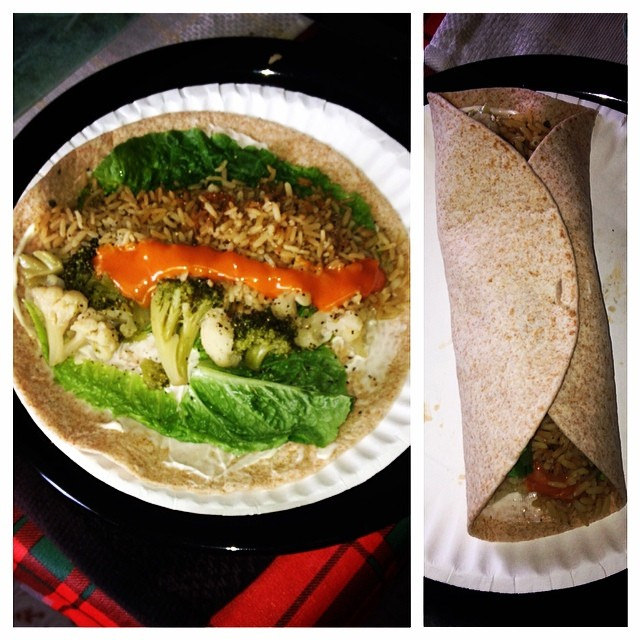chopped lettuce: (110, 348, 328, 438)
plain rice: (196, 204, 333, 252)
